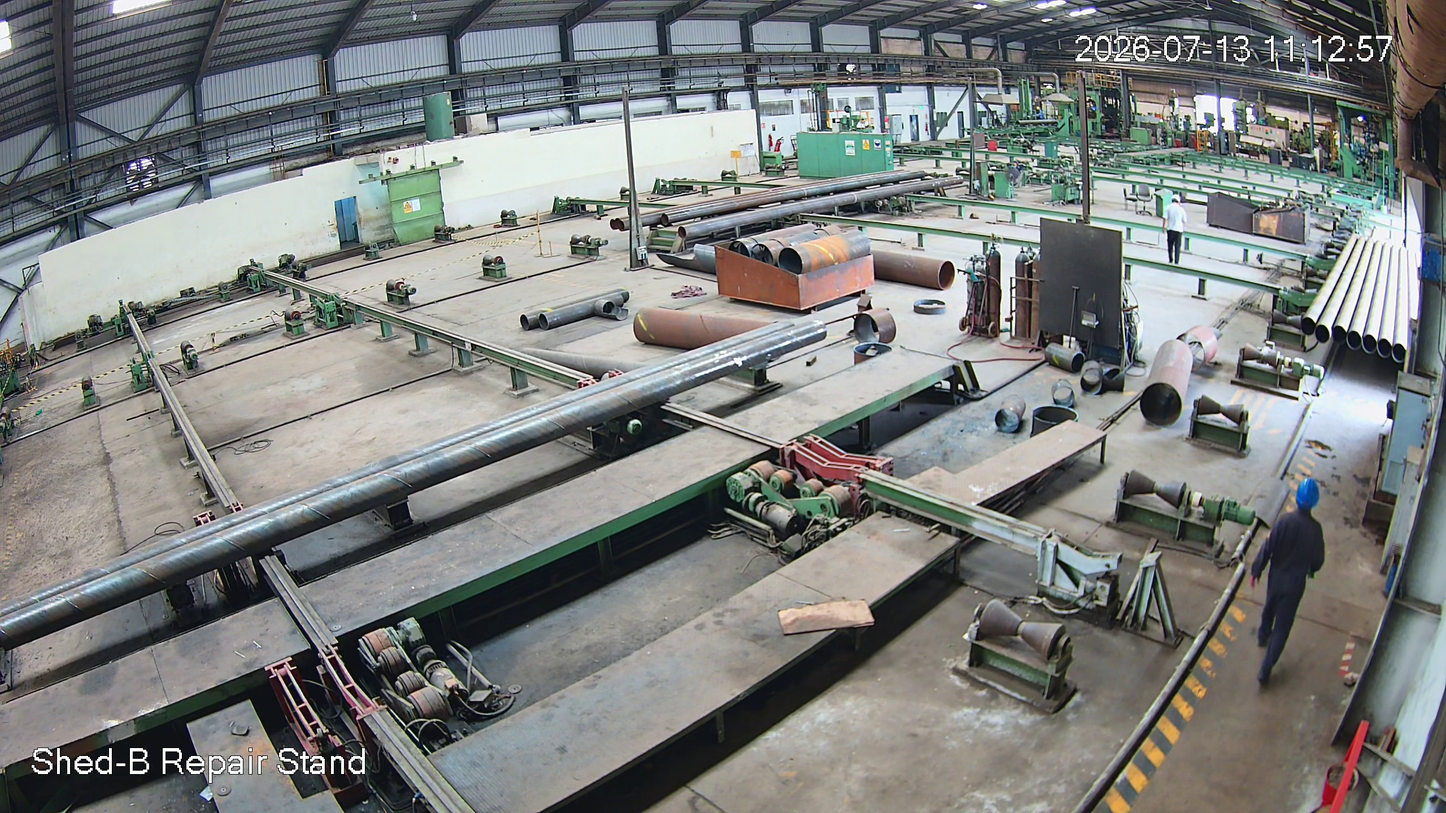Helmet: (1292, 472, 1325, 525)
Person: (1250, 478, 1334, 685)
